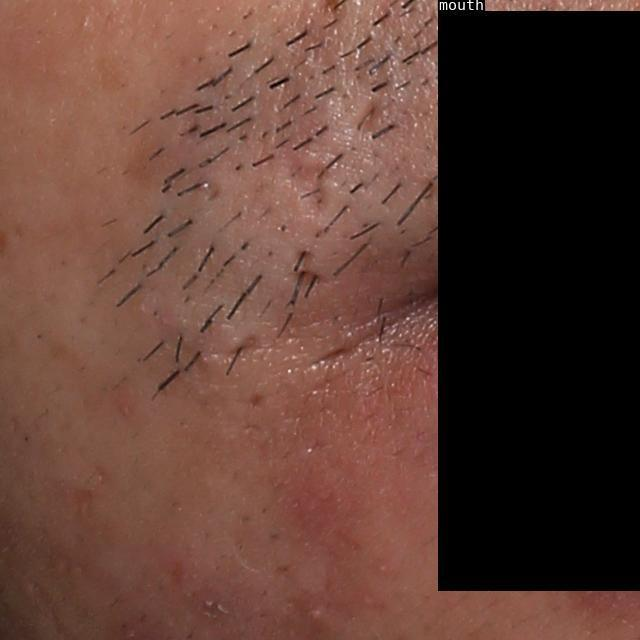atrophic_scar: (339, 83, 396, 137), (212, 332, 262, 365)
